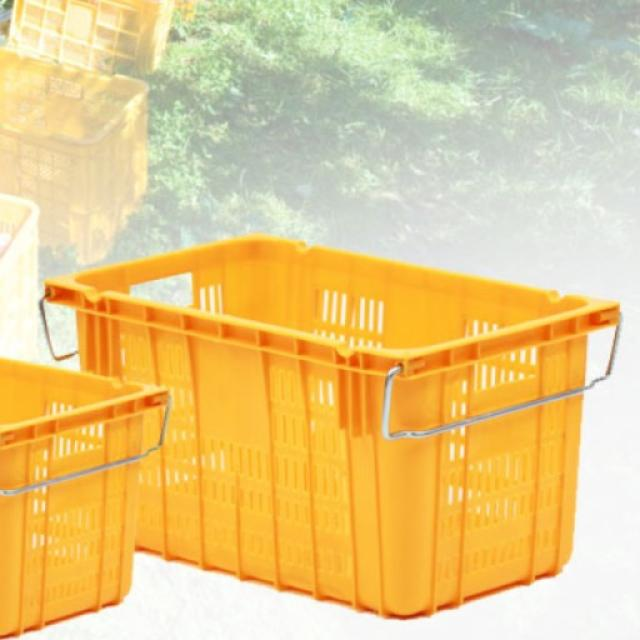basket: (0, 196, 624, 640), (0, 359, 169, 637)
